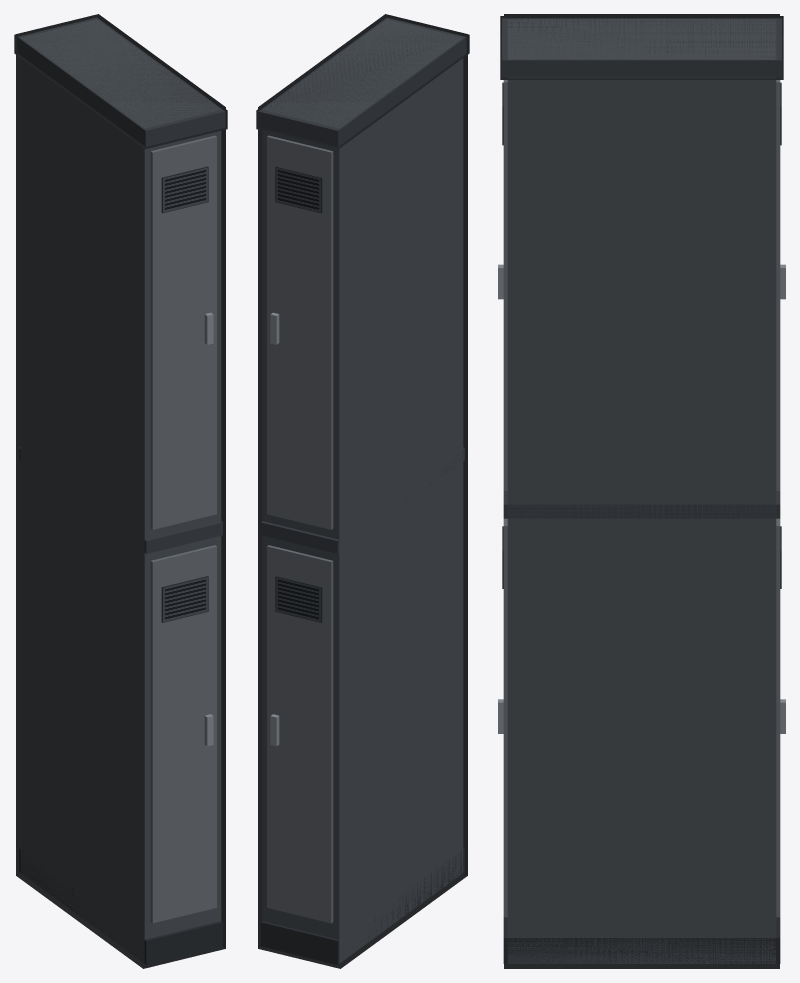
File: SM_BarrierLocker.glb
3 views of the same model, side by side, from view 1: azimuth 30°, elevation 25°; view 2: azimuth 150°, elevation 25°; view 3: azimuth 270°, elevation 25° (orthographic). The views are drawn at different scales.
Visible parts, largest first — view 1: SM_BarrierLocker, SM_BarrierLocker_Outline; view 2: SM_BarrierLocker, SM_BarrierLocker_Outline; view 3: SM_BarrierLocker, SM_BarrierLocker_Outline.
Part boxes in pixels (bbox=[...]): SM_BarrierLocker: bbox=[17, 17, 225, 964]; SM_BarrierLocker_Outline: bbox=[14, 14, 227, 968]; SM_BarrierLocker: bbox=[258, 17, 466, 964]; SM_BarrierLocker_Outline: bbox=[256, 14, 469, 968]; SM_BarrierLocker: bbox=[498, 18, 785, 963]; SM_BarrierLocker_Outline: bbox=[500, 14, 783, 968].
Bounding box in the file's own units: 0.5392 × 5.24 × 1.5.
Materials: 2 (1 with a texture image).
